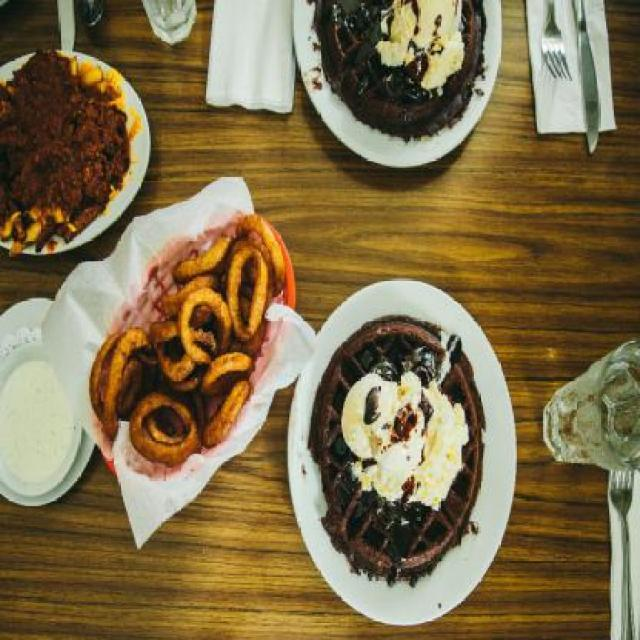Waffle: (311, 314, 487, 604), (314, 0, 488, 142)
